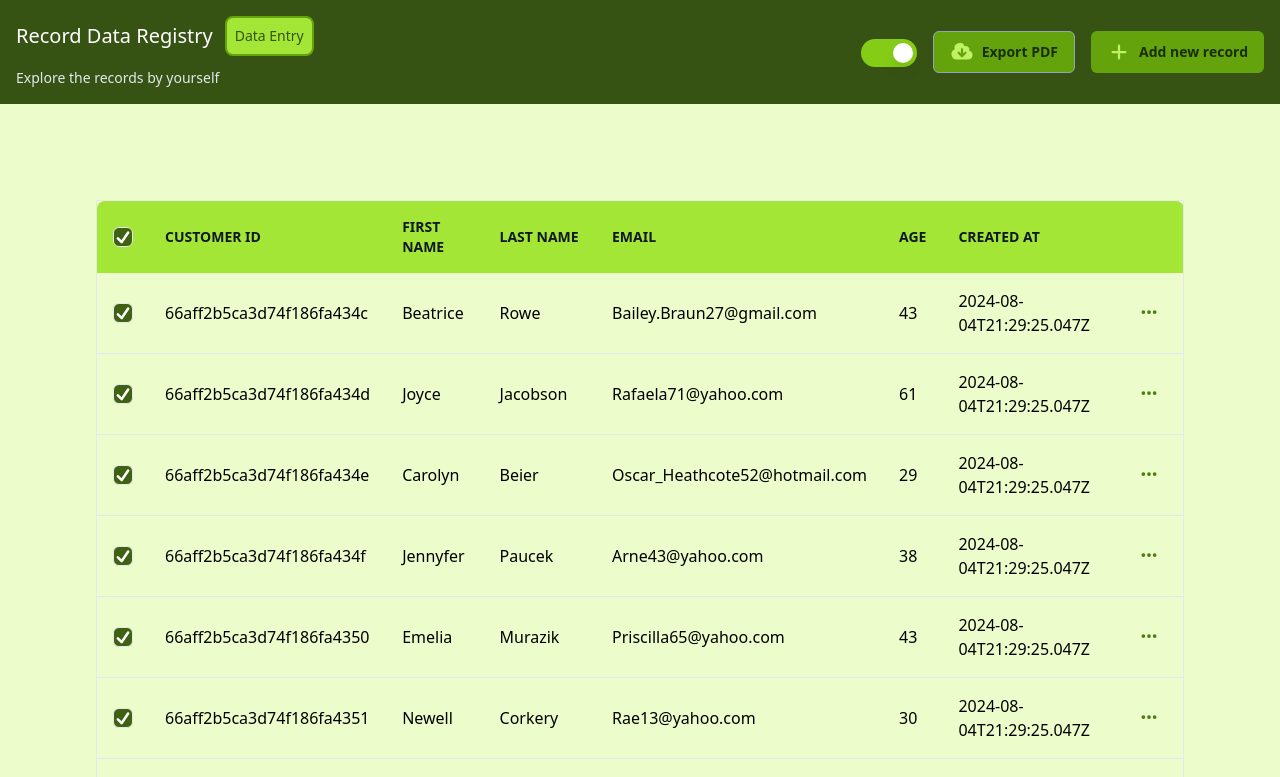
it: Home Page › renders a ow dropdown when click the icon
What coordinates should you click on to do the following:
click the button with test id "66aff2b5ca3d74f186fa434d"
I would click on:
 (1149, 393)
Its box is [1139,383,1159,403].
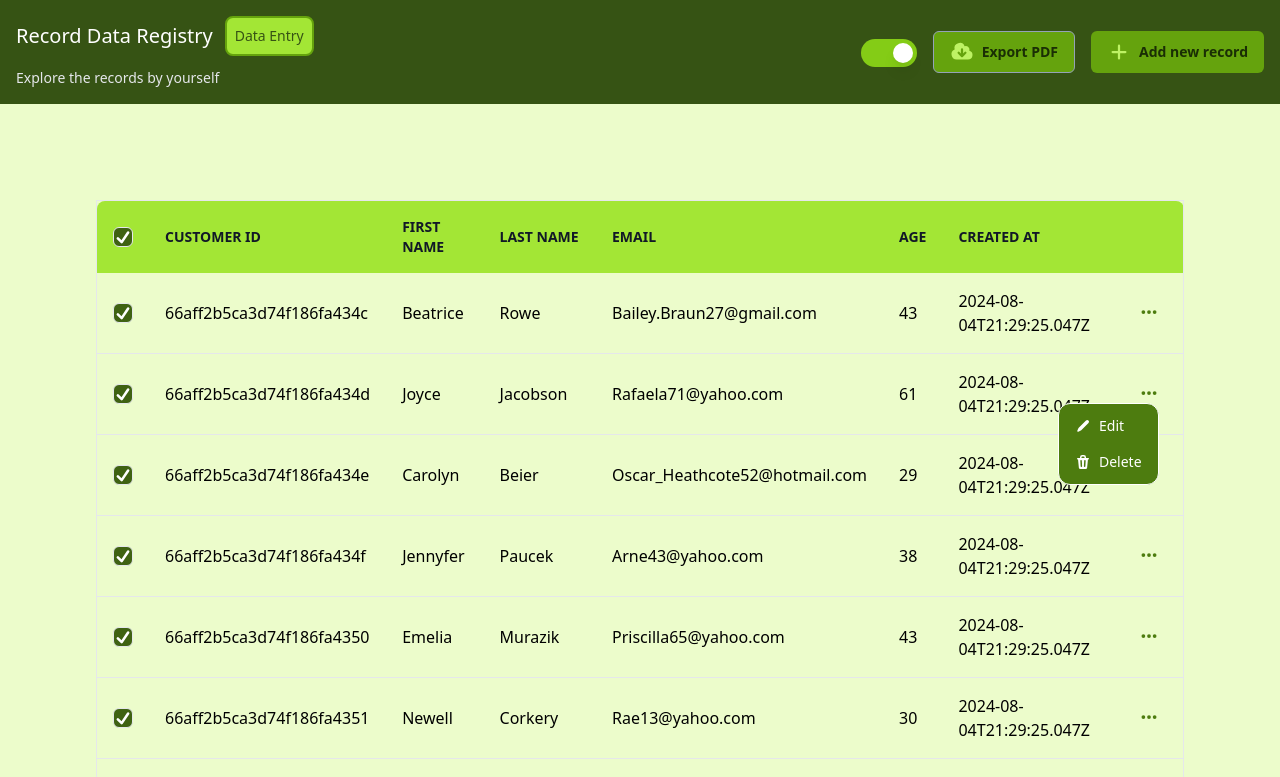
expect the menu item "Edit" is shown: met, box [1063,408,1154,444]
expect the menu item "Delete" is shown: met, box [1063,444,1154,480]
